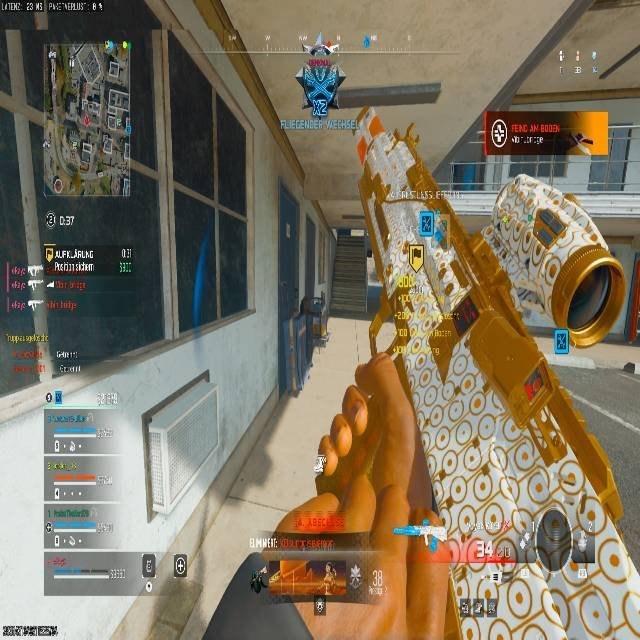head: (308, 44, 330, 57)
player: (293, 44, 345, 118)
